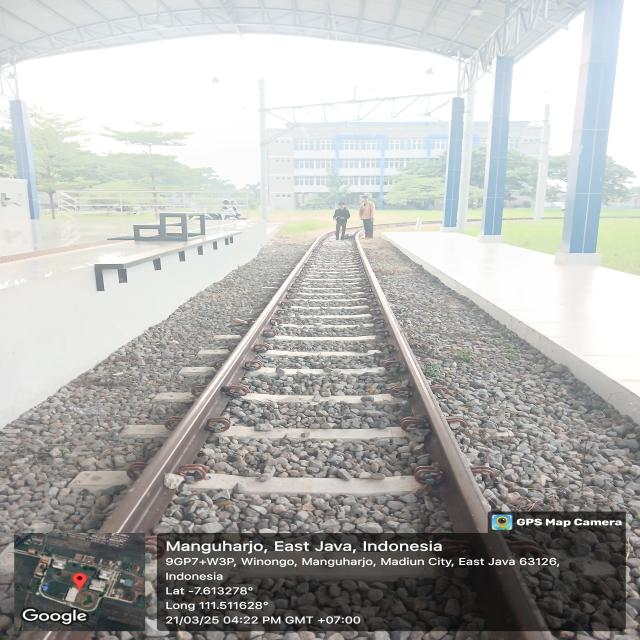rail-detection: (101, 264, 300, 534), (360, 249, 490, 532)
